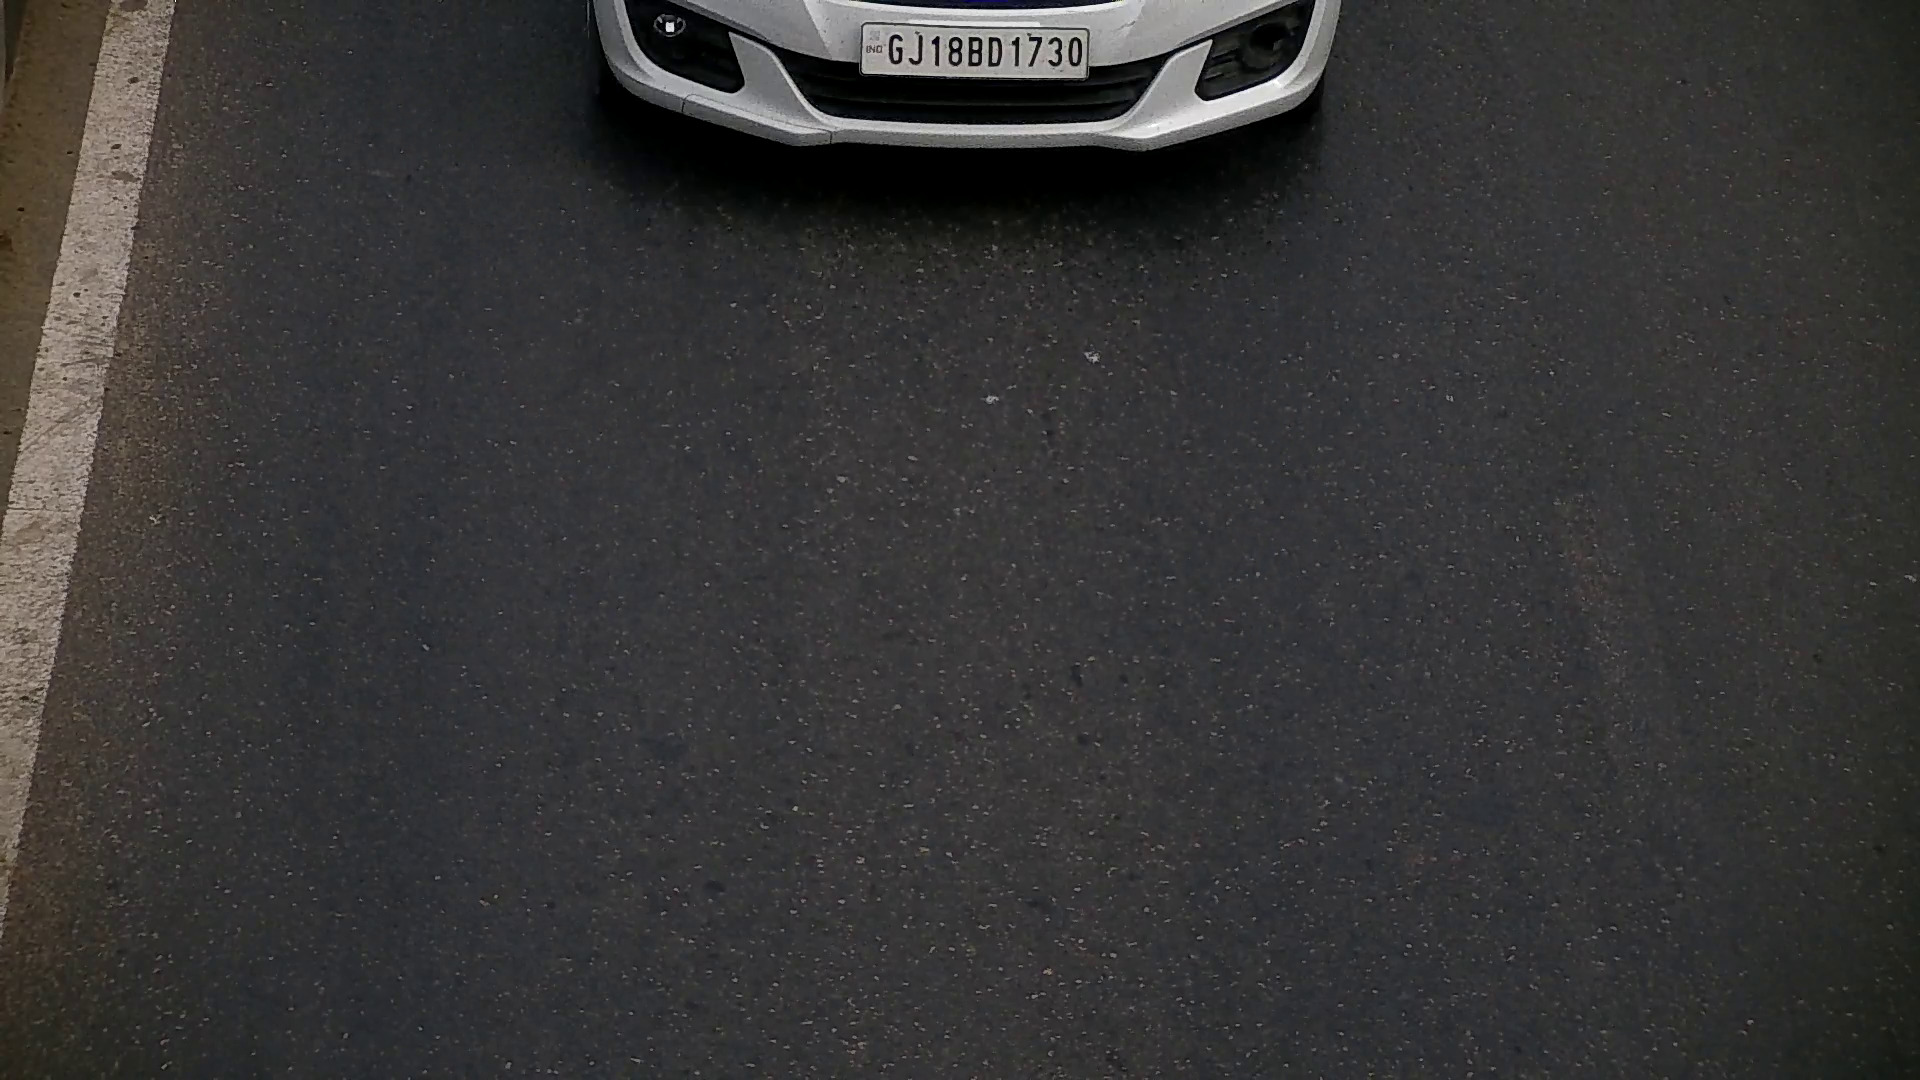numberplate: (857, 18, 1095, 83)
